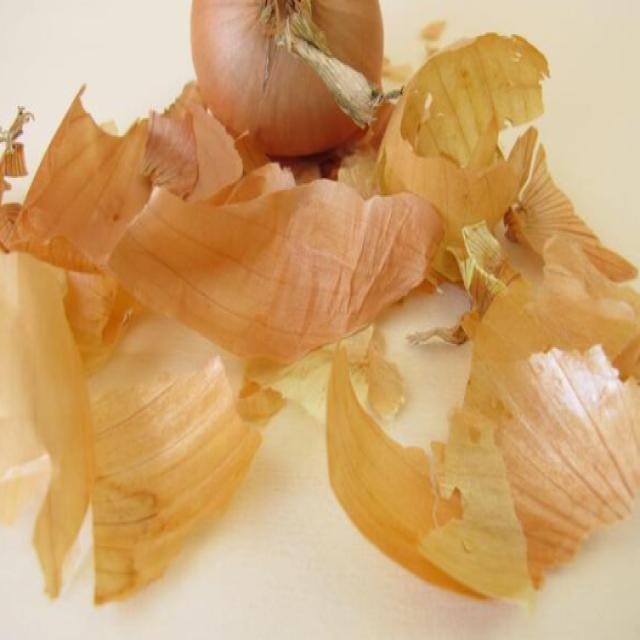paper: (112, 168, 435, 348), (192, 0, 397, 172)
